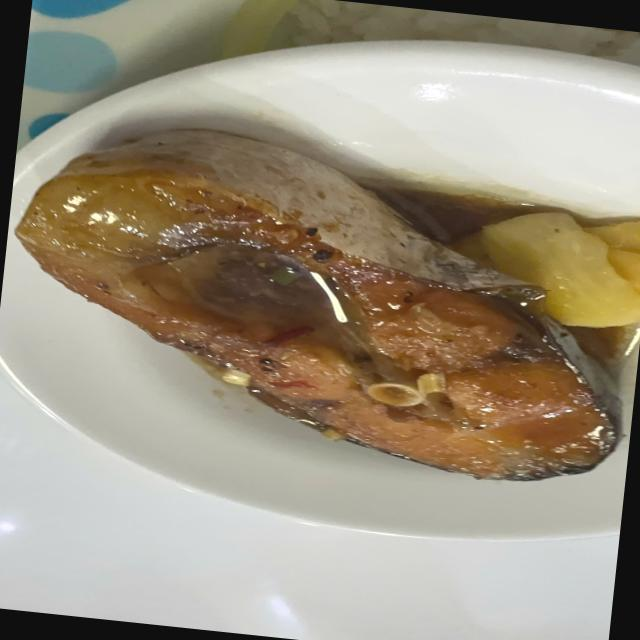ca kho: (15, 131, 620, 479)
